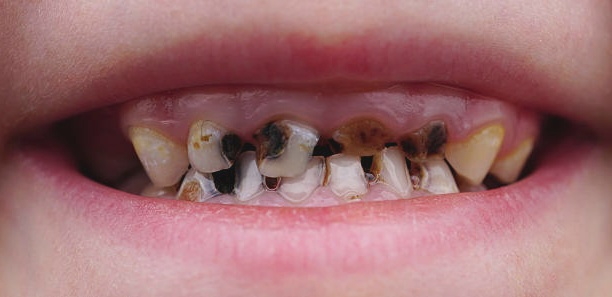Caries: (328, 119, 403, 157), (394, 119, 453, 162), (250, 115, 295, 170), (358, 150, 393, 186), (216, 126, 244, 167), (399, 151, 430, 188), (206, 163, 240, 195), (178, 177, 204, 203), (258, 170, 283, 195)
